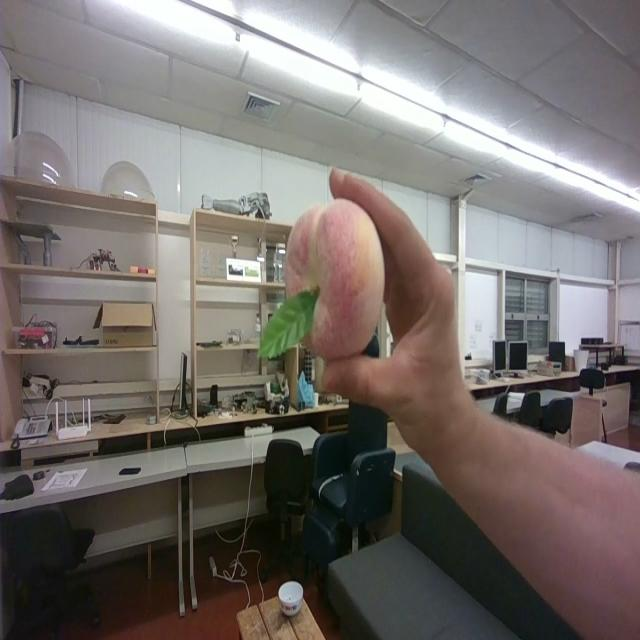peach: (257, 200, 384, 360)
